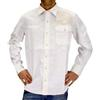abbigliamento_uomo: (9, 6, 92, 96)
